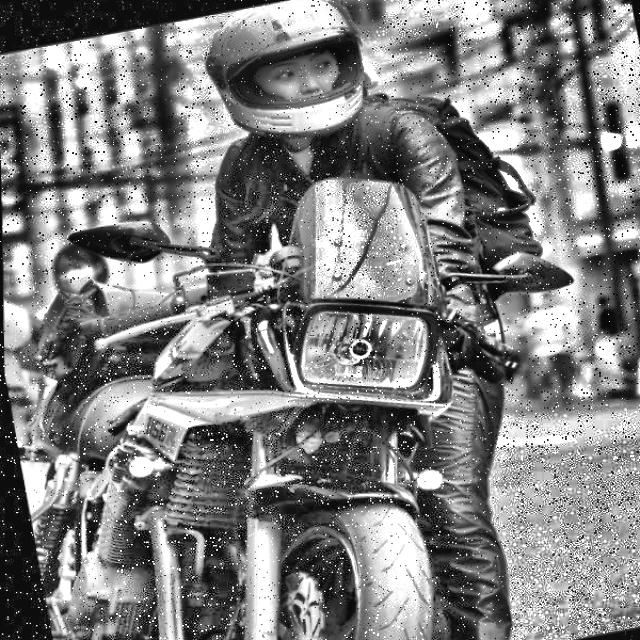Helmet: (187, 0, 386, 157)
